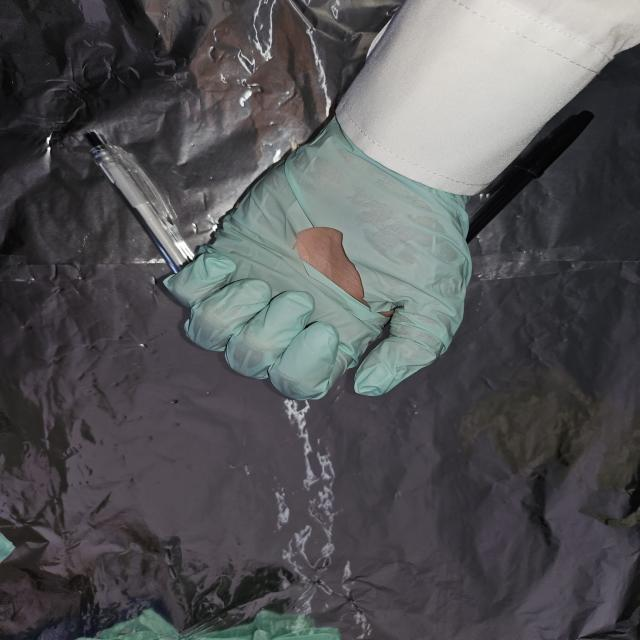gloves_damaged: (160, 111, 472, 402)
